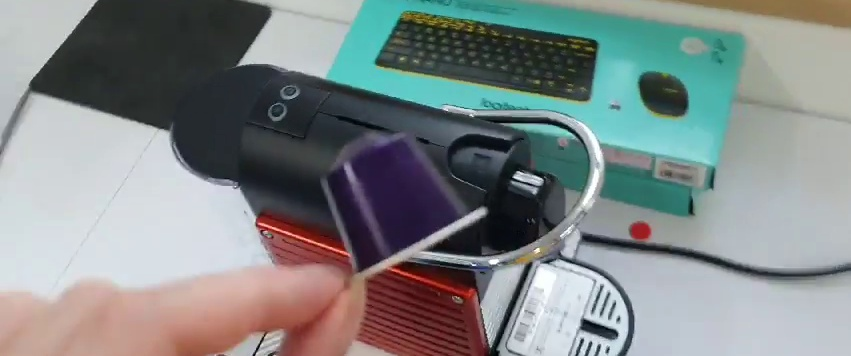capsule_11: (319, 124, 491, 284)
